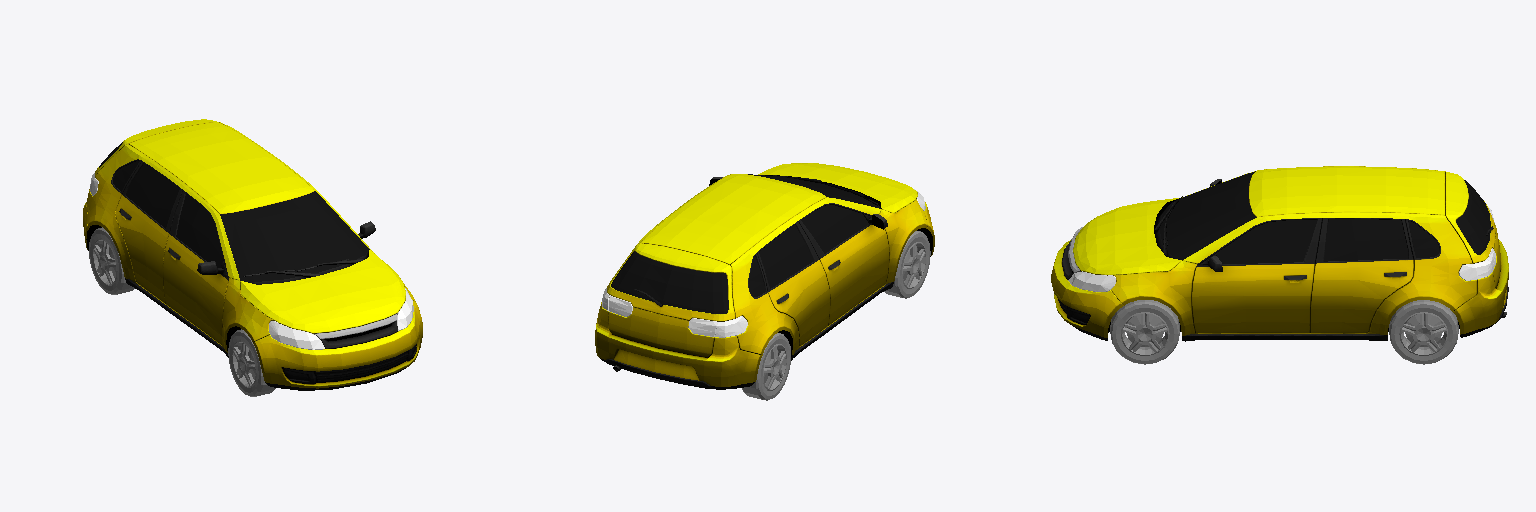
The picture shows the model from 3 angles: view 1: azimuth 30°, elevation 25°; view 2: azimuth 150°, elevation 25°; view 3: azimuth 270°, elevation 25°; orthographic projection.
Parts seen in each view (by area): view 1: Hatchback_Body_Mesh.020, Wheel_B002_Mesh.023, Wheel_B003_Mesh.024; view 2: Hatchback_Body_Mesh.020, Wheel_B003_Mesh.024, Wheel_B002_Mesh.023; view 3: Hatchback_Body_Mesh.020, Wheel_B_Mesh.021, Wheel_B001_Mesh.022.
Boxes of the visible parts, box(x1,y1,x2,y2) form: Hatchback_Body_Mesh.020: box(83, 119, 422, 390); Wheel_B002_Mesh.023: box(228, 329, 275, 396); Wheel_B003_Mesh.024: box(89, 227, 134, 294); Hatchback_Body_Mesh.020: box(595, 163, 934, 389); Wheel_B003_Mesh.024: box(742, 333, 790, 400); Wheel_B002_Mesh.023: box(884, 231, 930, 298); Hatchback_Body_Mesh.020: box(1051, 166, 1508, 341); Wheel_B_Mesh.021: box(1110, 300, 1179, 364); Wheel_B001_Mesh.022: box(1389, 300, 1458, 364).
Size of the model in its own units: 1.96 by 1.52 by 4.45.
Materials: 4 (1 with a texture image).